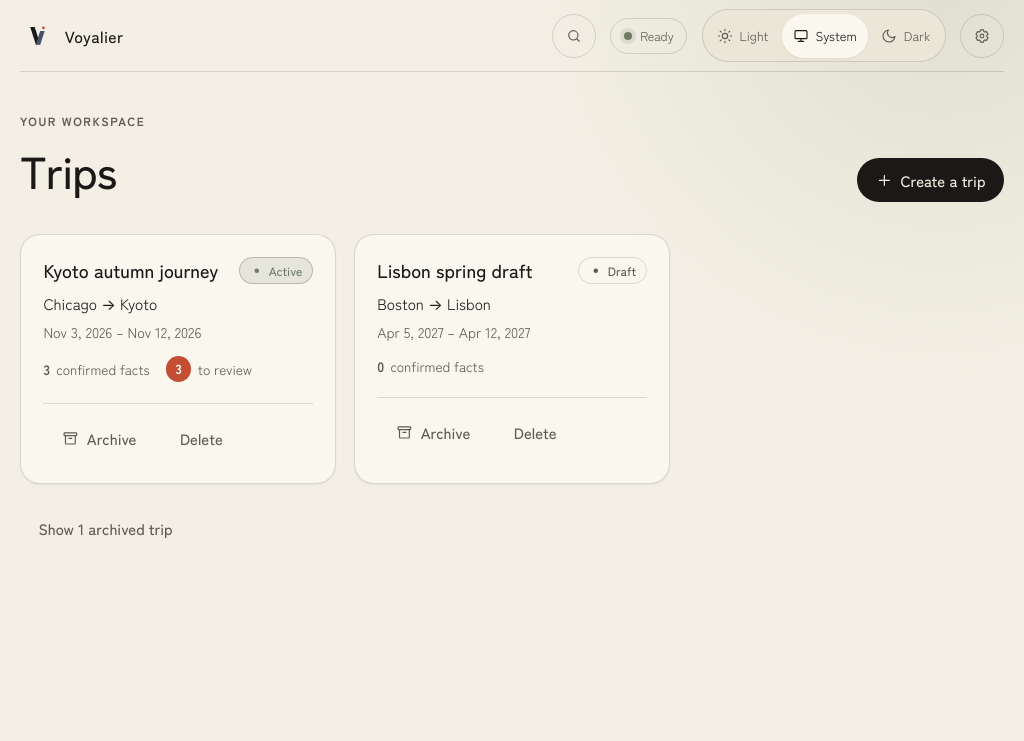
Test: destination facts › names the language a traveler will meet
The image size is (1024, 741).
Click the button with aria-label "Open Kyoto autumn journey".
click(131, 270)  # box [43,257,218,283]
(page scrolled)
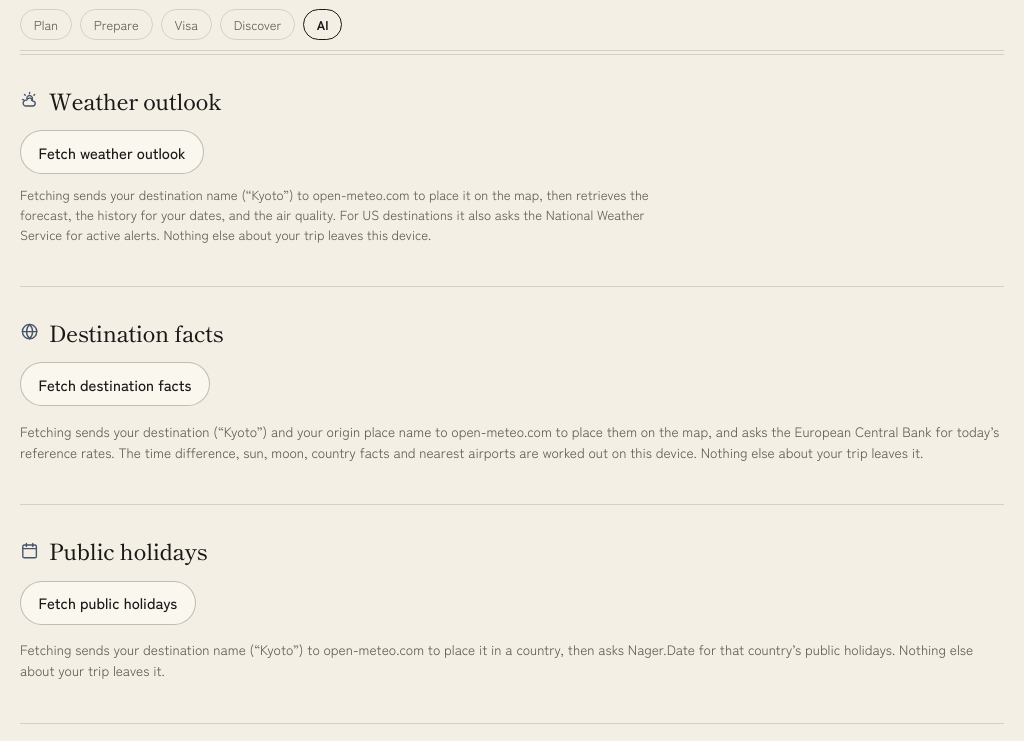
Click the button "Fetch destination facts".
click(115, 384)  # box [20,362,210,406]
(page scrolled)
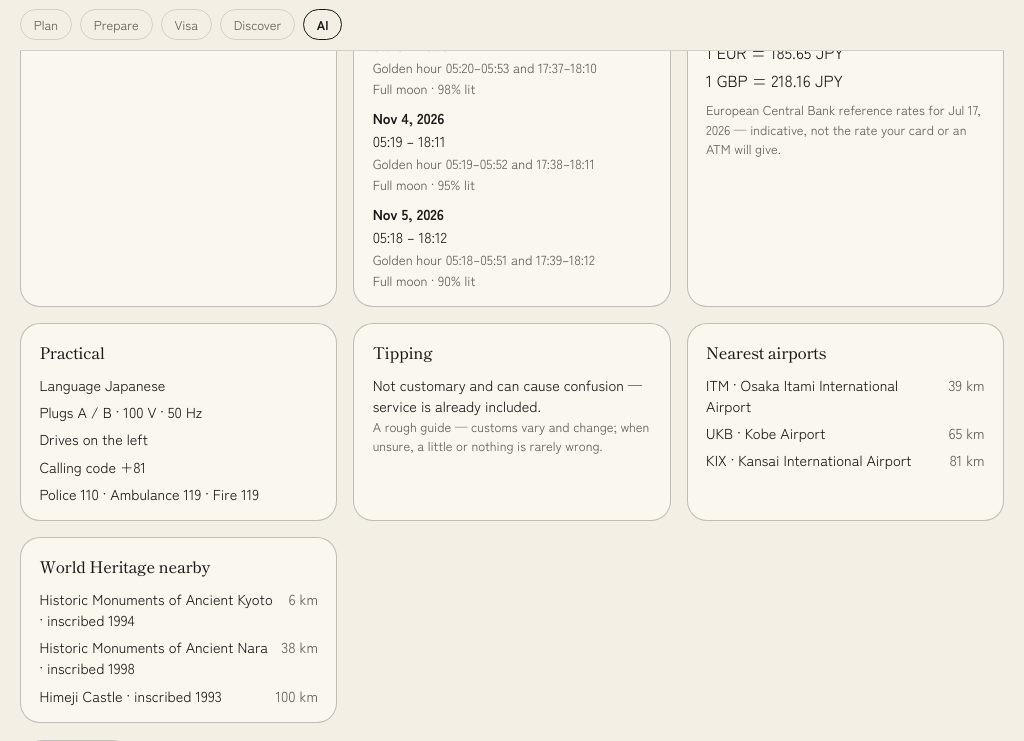
Check: the list item "Language Japanese" is shown, box [39,374,165,395]
